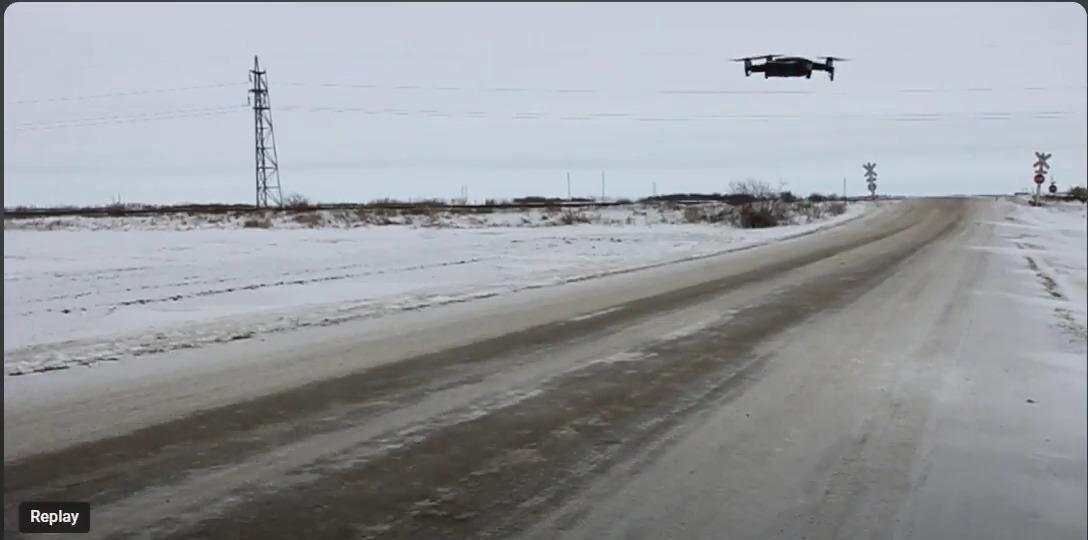dr: (722, 50, 860, 82)
